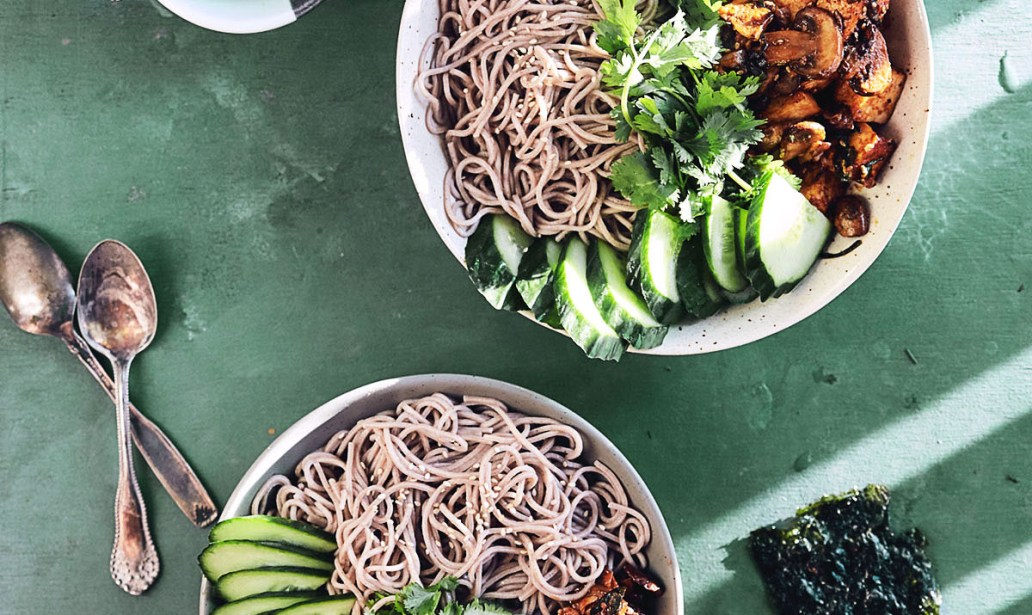Soba: (285, 386, 655, 609), (427, 7, 632, 252)
